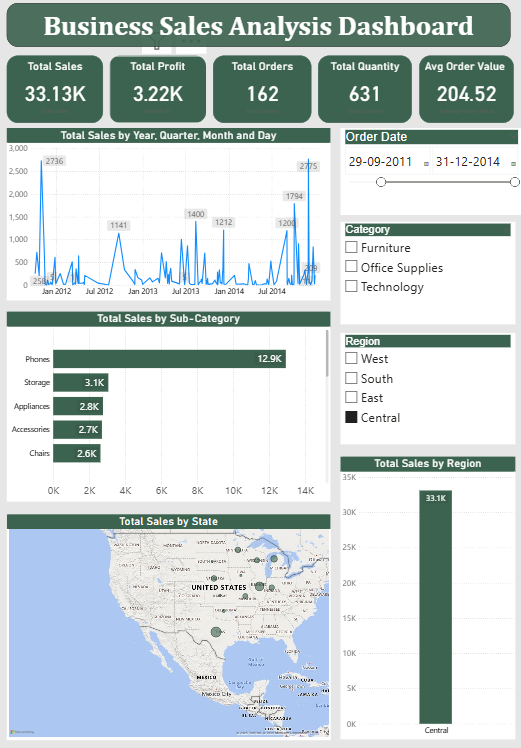

What the dashboard file says about the page in this screenshot:
{"tool":"powerbi","page":{"name":"Page 1","canvas":[1400,2400],"ordinal":0},"visuals":[{"type":"card","title":"Total Sales ","fields":{"Values":["Orders.Total Sales"]},"box":[23.3,153.3,256.7,180],"z":0},{"type":"lineChart","fields":{"Y":["Orders.Total Sales"],"Category":["Orders.Order Date.Variation.Date Hierarchy.Year","Orders.Order Date.Variation.Date Hierarchy.Quarter","Orders.Order Date.Variation.Date Hierarchy.Month","Orders.Order Date.Variation.Date Hierarchy.Day"]},"box":[23.3,346.7,863.3,460],"z":1000},{"type":"card","title":"Total Orders","fields":{"Values":["Orders.Total Orders"]},"box":[572,154,262,180],"z":2000},{"type":"card","title":"Total Profit","fields":{"Values":["Orders.Total Profit"]},"box":[298,154,258,180],"z":3000},{"type":"barChart","fields":{"Category":["Orders.Sub-Category"],"Y":["Orders.Total Sales"]},"box":[23.3,836.7,863.3,506.7],"z":4000},{"type":"clusteredColumnChart","fields":{"Category":["Orders.Region"],"Y":["Orders.Total Sales"]},"box":[913.3,1223.3,466.7,753.3],"z":5000},{"type":"slicer","fields":{"Values":["Orders.Category"]},"box":[913.3,596.7,466.7,273.3],"z":6000},{"type":"slicer","fields":{"Values":["Orders.Region"]},"box":[913.3,893.3,466.7,296.7],"z":7000},{"type":"slicer","fields":{"Values":["Orders.Order Date"]},"box":[913.3,346.7,486.7,230],"z":8000},{"type":"card","title":"Total Quantity","fields":{"Values":["Orders.Total Quantity"]},"box":[854,154,250,180],"z":9000},{"type":"card","title":"Avg Order Value","fields":{"Values":["Orders.Average Order Value"]},"box":[1122,154,252,180],"z":10000},{"type":"textbox","box":[23.3,13.3,1343.3,116.7],"z":11000},{"type":"map","fields":{"Category":["Orders.State"],"Size":["Orders.Total Sales"]},"box":[23.3,1376.7,863.3,600],"z":12000},{"type":"textbox","box":[23.3,2006.7,1356.7,360],"z":12001}]}

Visuals, with their boxes on the page's 1400x2400 design canvas (x1, y1, x2, y2). These are canvas units, not pixel positions in the 521x748 screenshot, which may show the page scaled, cropped or inside an application window:
"Total Sales " card: region(23, 153, 280, 333)
lineChart - Orders.Total Sales x Orders.Order Date.Variation.Date Hierarchy.Year: region(23, 347, 887, 807)
"Total Orders" card: region(572, 154, 834, 334)
"Total Profit" card: region(298, 154, 556, 334)
barChart - Orders.Sub-Category x Orders.Total Sales: region(23, 837, 887, 1343)
clusteredColumnChart - Orders.Region x Orders.Total Sales: region(913, 1223, 1380, 1977)
slicer - Orders.Category: region(913, 597, 1380, 870)
slicer - Orders.Region: region(913, 893, 1380, 1190)
slicer - Orders.Order Date: region(913, 347, 1400, 577)
"Total Quantity" card: region(854, 154, 1104, 334)
"Avg Order Value" card: region(1122, 154, 1374, 334)
textbox: region(23, 13, 1367, 130)
map - Orders.State x Orders.Total Sales: region(23, 1377, 887, 1977)
textbox: region(23, 2007, 1380, 2367)
